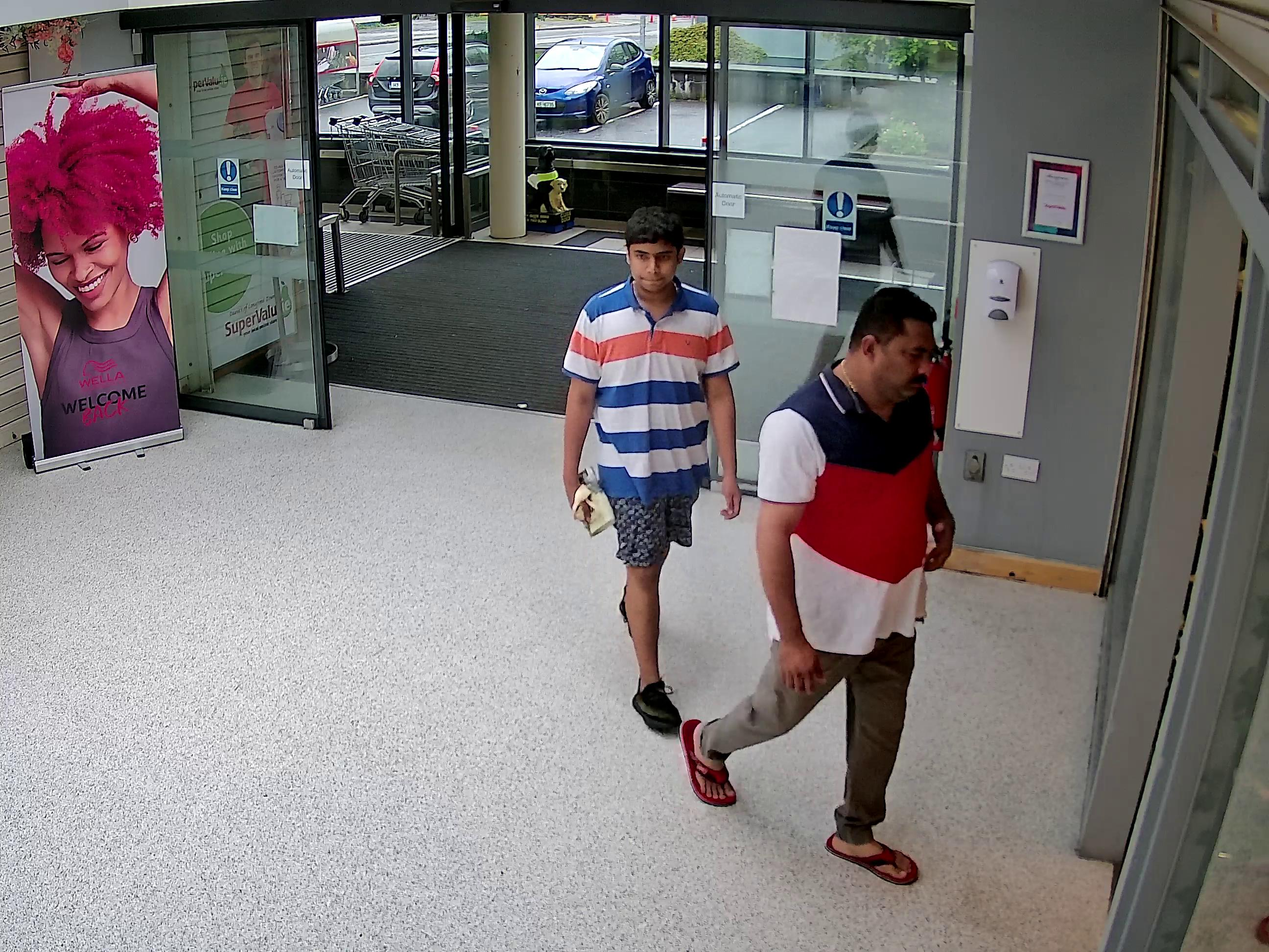empty-shopping-bags: (566, 465, 615, 537)
person: (564, 209, 743, 727)
person-with-empty-shopping-bag-s-: (564, 207, 746, 729)
